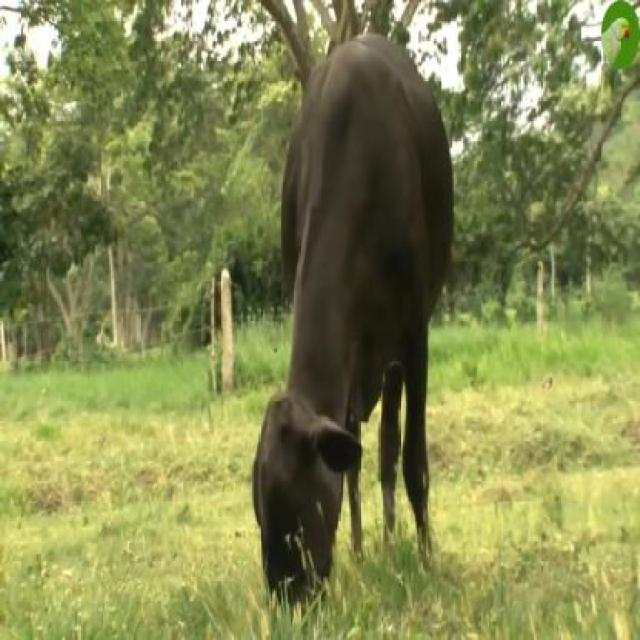Cow: (252, 37, 456, 600)
